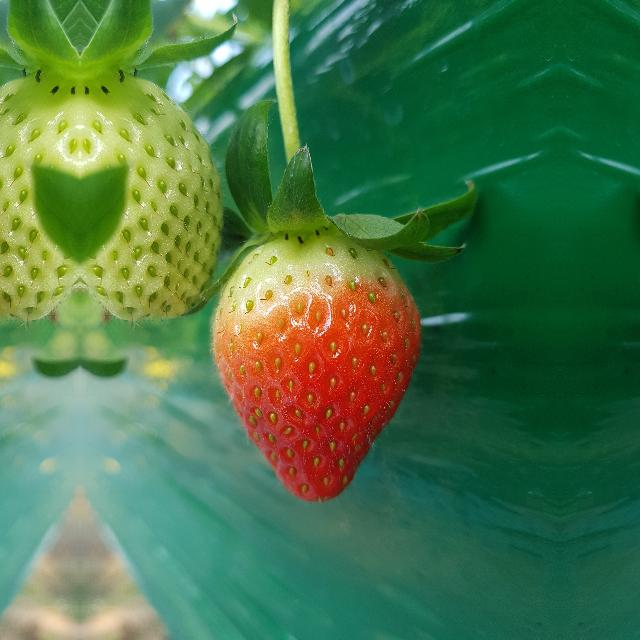Health_25: (80, 74, 226, 326), (0, 74, 80, 326)
Health_75: (210, 228, 424, 504)
